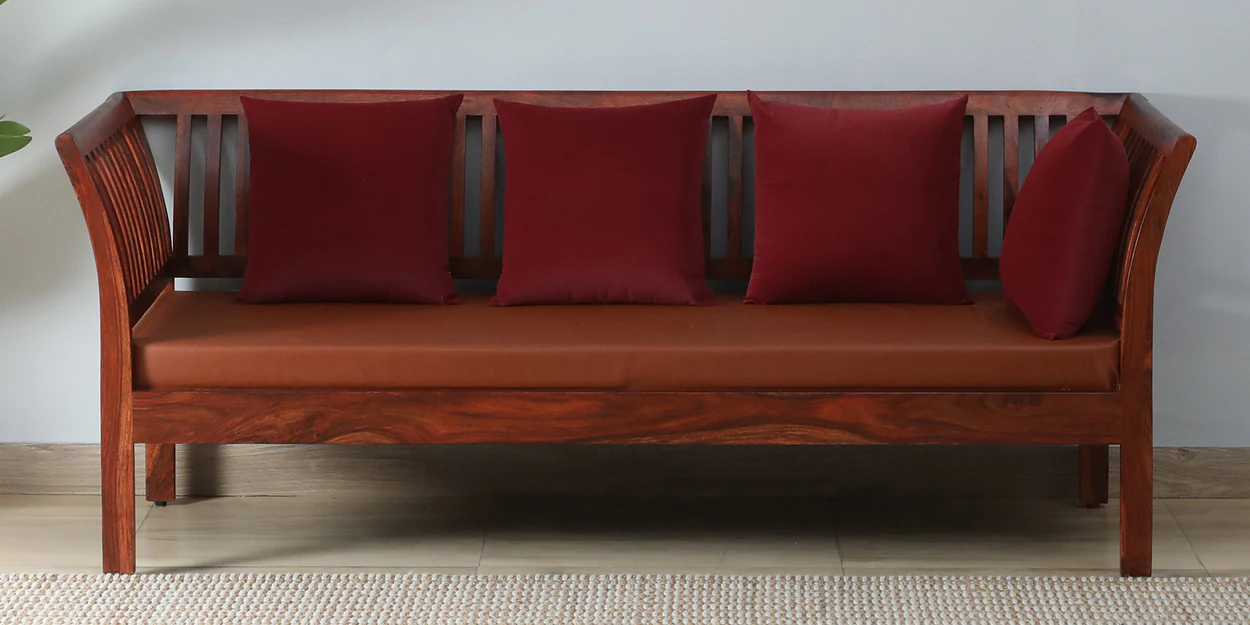3seatersofa: (55, 88, 1195, 576)
backrest: (119, 89, 457, 296), (444, 90, 761, 287), (449, 92, 693, 279), (960, 92, 1143, 283), (131, 91, 250, 293), (702, 92, 754, 291), (760, 92, 960, 108)
base: (133, 389, 1122, 444)
leftarmrest: (1112, 94, 1196, 444)
leg: (1113, 426, 1154, 576), (99, 436, 135, 573), (146, 444, 175, 505), (1079, 446, 1108, 507)
pillow: (746, 92, 969, 304), (495, 96, 716, 304), (241, 95, 462, 303), (1004, 109, 1128, 330)
rightarmrest: (57, 93, 187, 447)
seat: (131, 291, 1120, 391)
